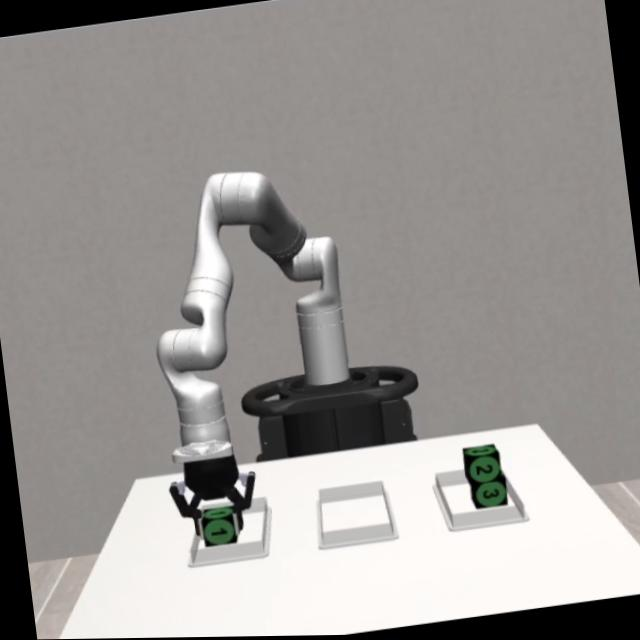cube1: (198, 504, 240, 548)
cube2: (461, 444, 504, 486)
cube3: (473, 473, 509, 511)
